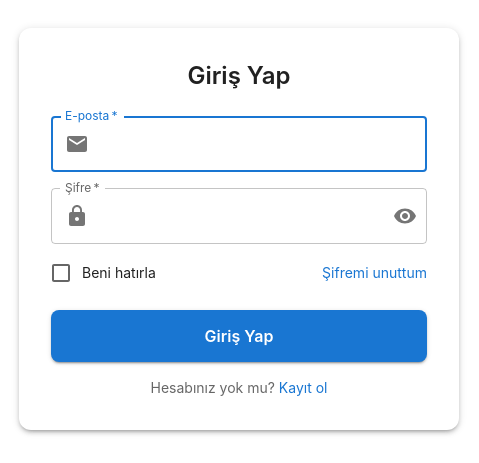
Test: Login Flow (Turkish) › should toggle password visibility
Type "SecretPass" into the password field named "password".
click(237, 216); type("SecretPass")  # box x1=97 y1=188 x2=377 y2=244
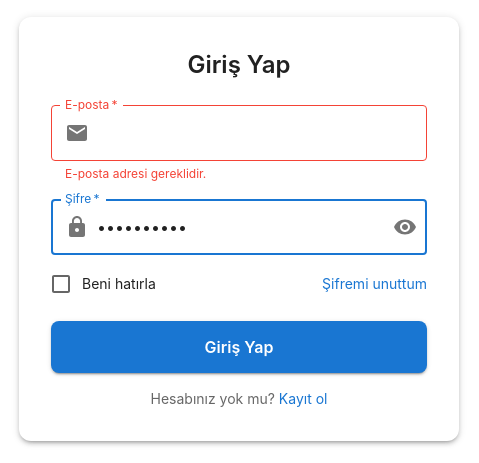
Note: Click toggle button
Click the button named "Şifreyi göster".
click(405, 228)  # box x1=385 y1=208 x2=425 y2=248
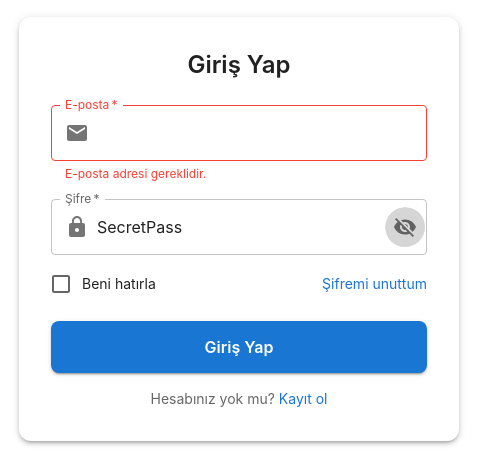
Expected: the field named "password" shows its text, x1=97 y1=200 x2=377 y2=256
Note: Click toggle button again
Click the button named "Şifreyi gizle".
click(405, 228)  # box x1=385 y1=208 x2=425 y2=248
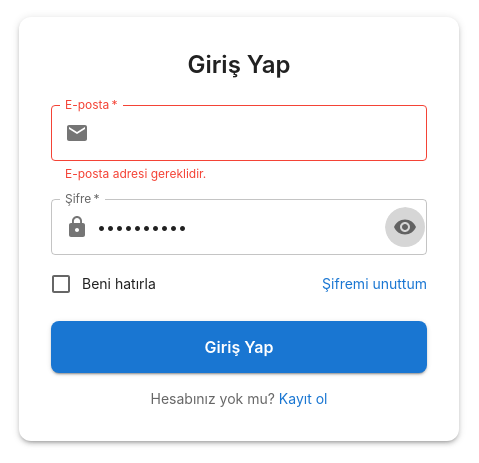
Expected: the password field named "password" hides its text, x1=97 y1=200 x2=377 y2=256
